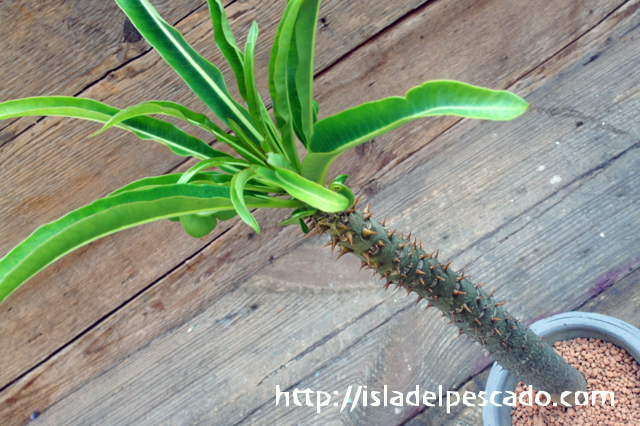Pachypodium meridionale: (168, 56, 599, 410)
